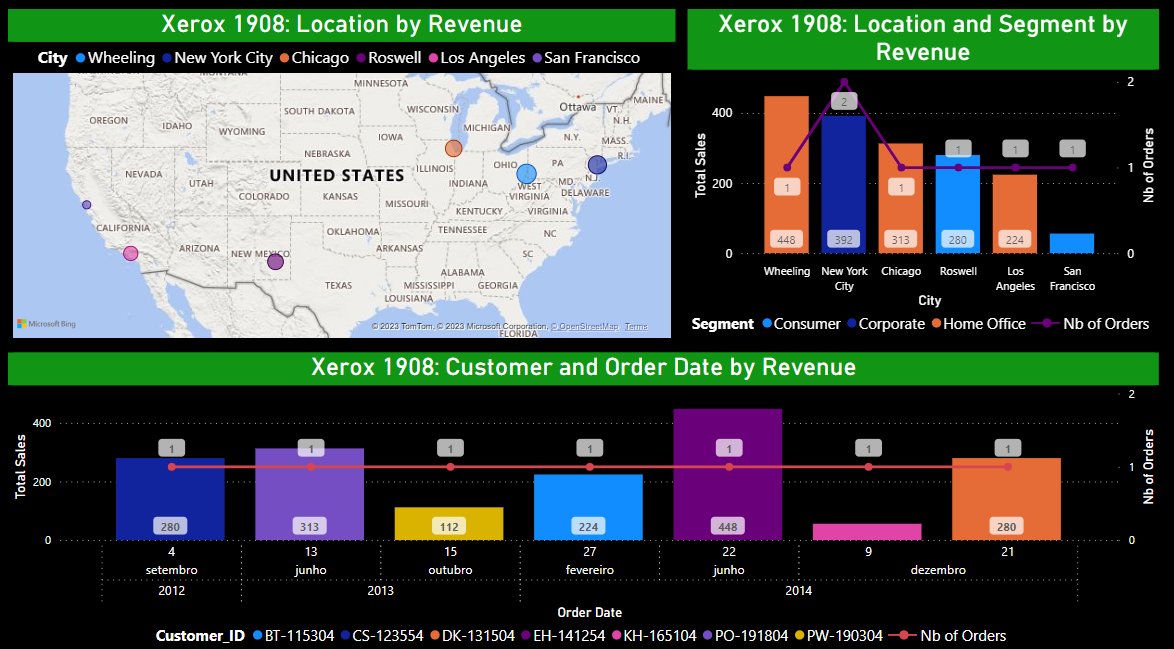

The dashboard page shown, as its layout file describes it:
{"tool":"powerbi","page":{"name":"Scott’s Paper advertisement","canvas":[1280,720],"ordinal":1},"visuals":[{"type":"map","title":"Xerox 1908: Location by Revenue","fields":{"Category":["location.Country","location.State","location.City"],"Size":["Sum(order.Sales)"],"Series":["location.City"]},"box":[13.2,18.9,720,359.1],"z":0},{"type":"lineStackedColumnComboChart","title":"Xerox 1908: Customer and Order Date by Revenue","fields":{"Y":["Sum(order.Sales)"],"Y2":["CountNonNull(order.Sales)"],"Category":["calendar_date_order.Date.Variation.Hierarquia de datas.Ano","calendar_date_order.Date.Variation.Hierarquia de datas.Mês","calendar_date_order.Date.Variation.Hierarquia de datas.Dia"],"Series":["customer.Customer_ID"]},"box":[13.2,389.3,1241.6,325],"z":1000},{"type":"lineStackedColumnComboChart","title":"Xerox 1908: Location and Segment by Revenue","fields":{"Y":["Sum(order.Sales)"],"Y2":["CountNonNull(order.Sales)"],"Category":["location.City"],"Series":["customer_segment.Segment"]},"box":[746.5,18.9,508.4,359.1],"z":2000}]}

Visuals, with their boxes in screenshot pixels (x1, y1, x2, y2), scaled from the page's 1280x720 canvas onto the 1174x649 screenshot:
"Xerox 1908: Location by Revenue" map: [12, 17, 672, 341]
"Xerox 1908: Customer and Order Date by Revenue" lineStackedColumnComboChart: [12, 351, 1151, 644]
"Xerox 1908: Location and Segment by Revenue" lineStackedColumnComboChart: [685, 17, 1151, 341]
